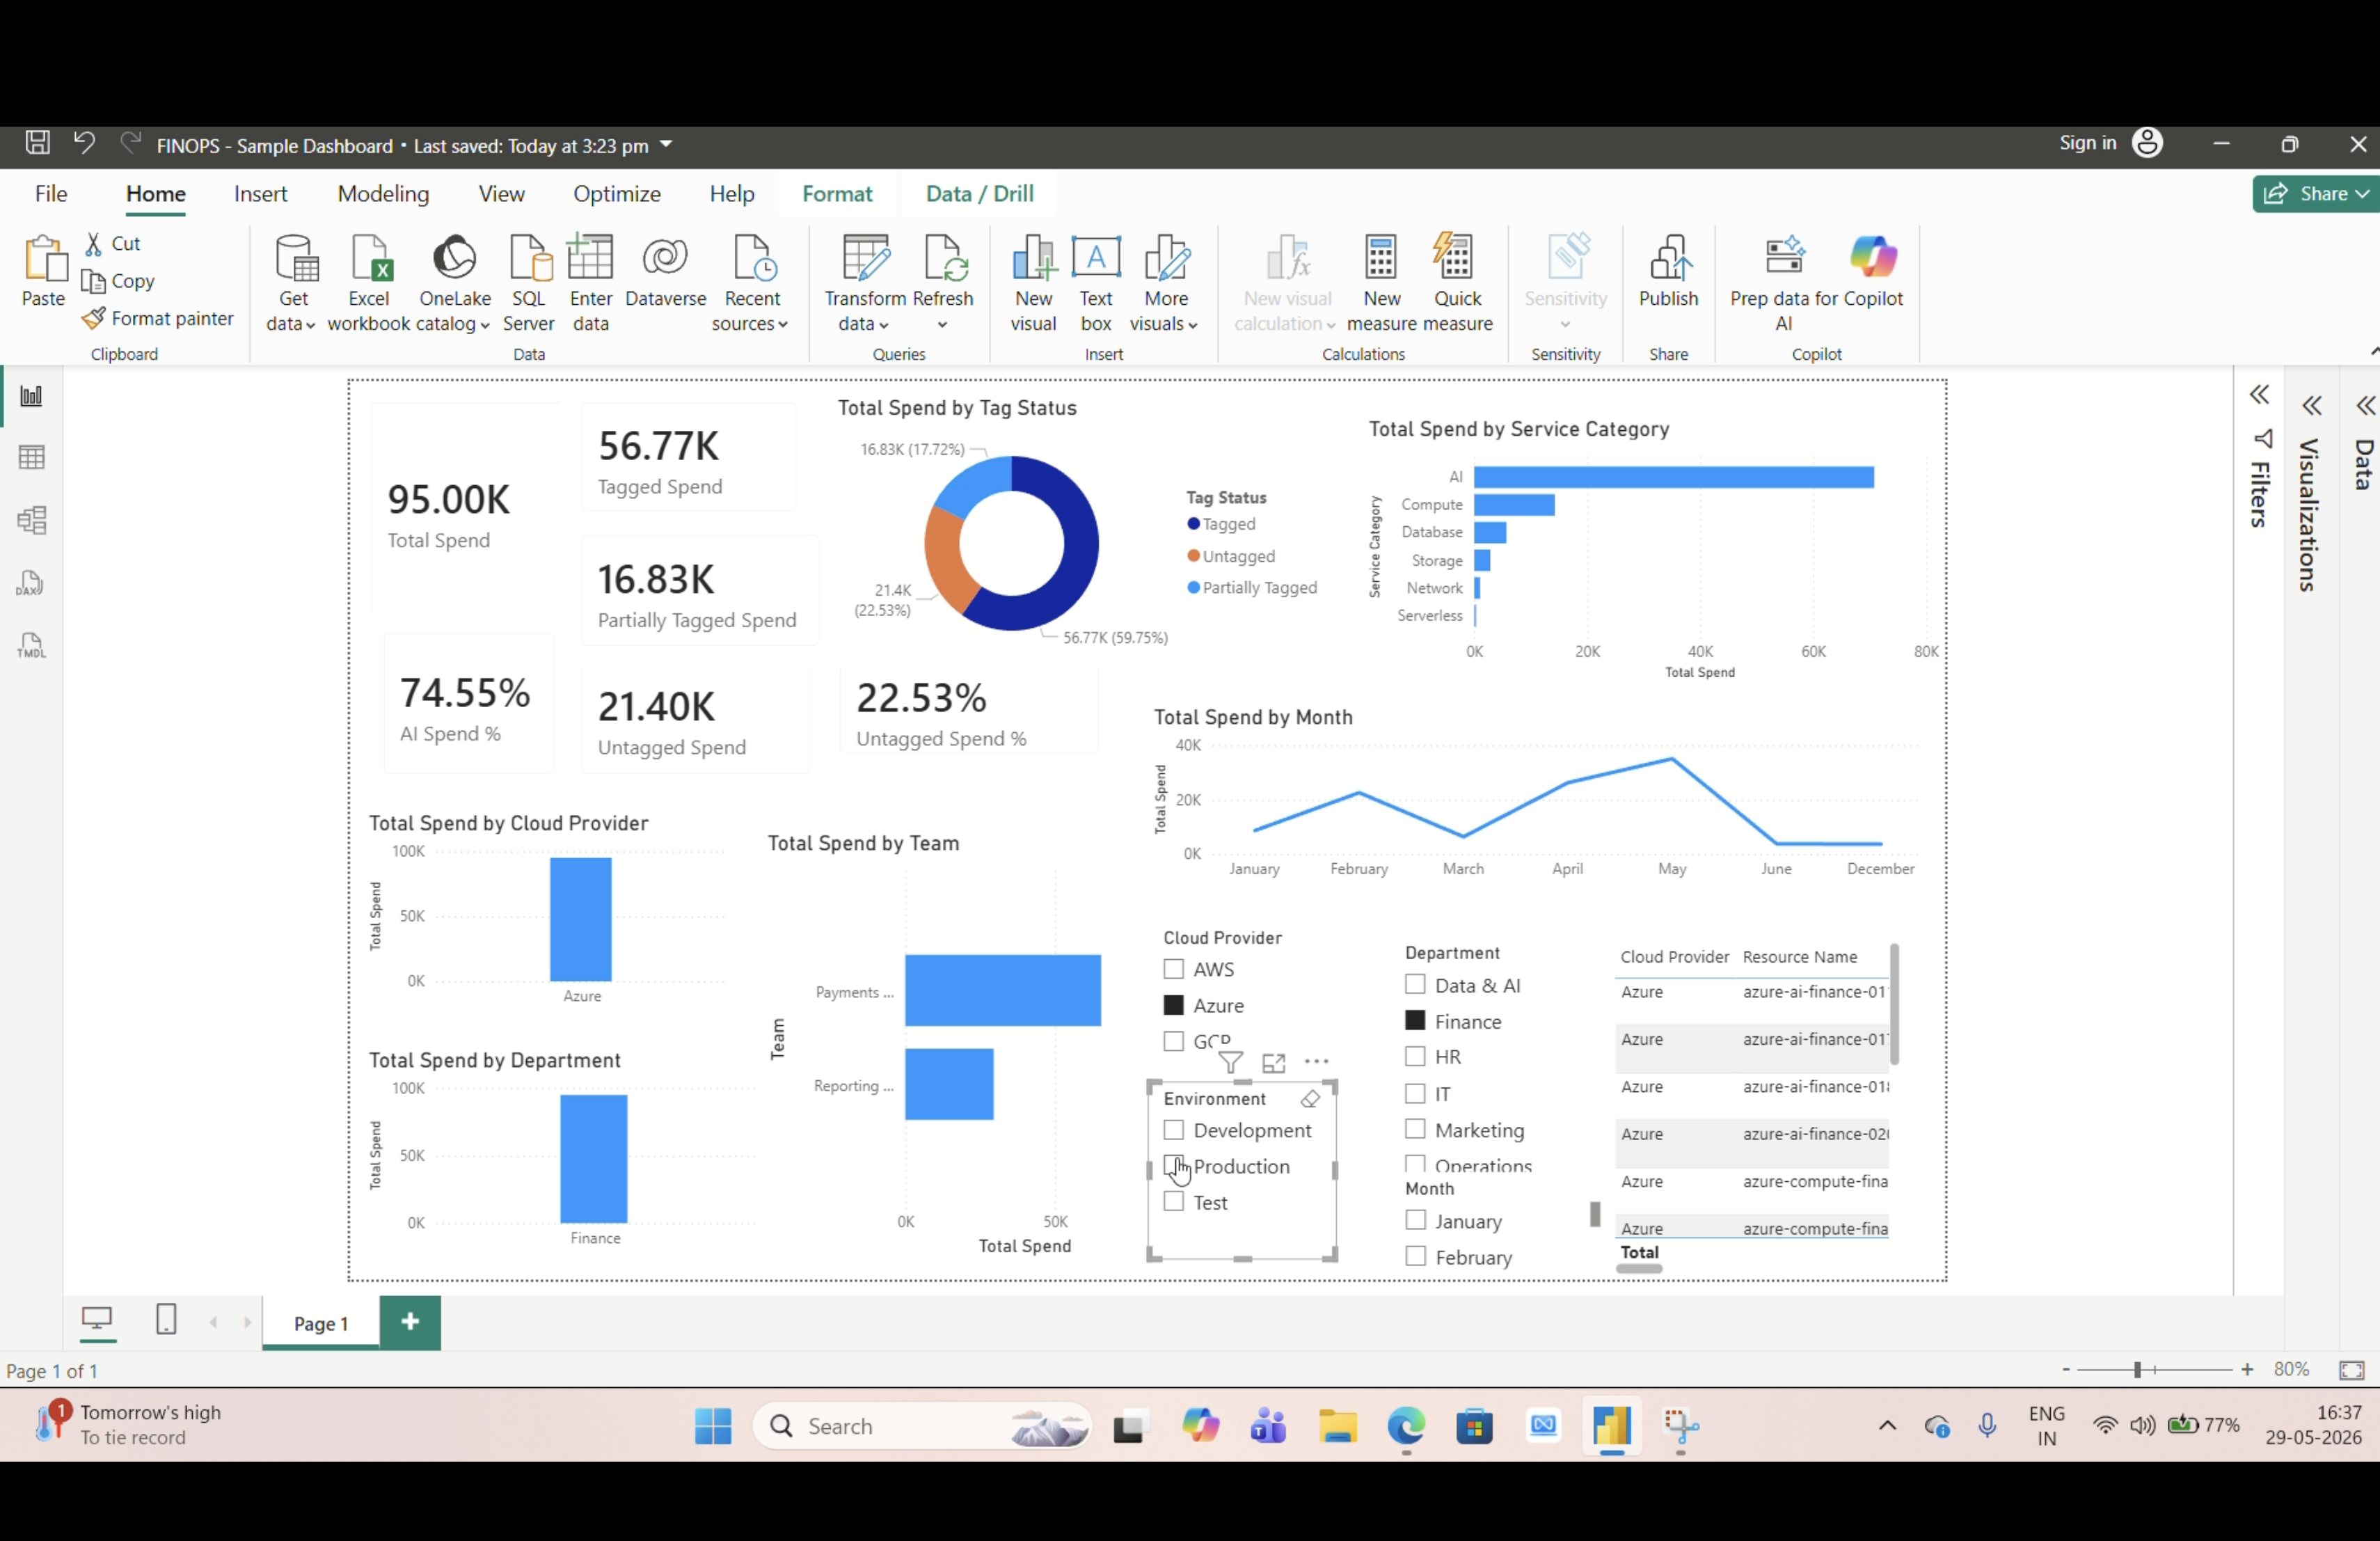

The dashboard page shown, as its layout file describes it:
{"tool":"powerbi","page":{"name":"Page 1","canvas":[1280,720],"ordinal":0},"visuals":[{"type":"cardVisual","fields":{"Data":["Cloud Cost.Total Spend"]},"box":[0,0,205,206.2],"z":0},{"type":"cardVisual","fields":{"Data":["Cloud Cost.Untagged Spend"]},"box":[168.8,206.2,217.5,126.2],"z":1},{"type":"cardVisual","fields":{"Data":["Cloud Cost.Tagged Spend"]},"box":[168.8,0,207.5,121.2],"z":2},{"type":"cardVisual","fields":{"Data":["Cloud Cost.Partially Tagged Spend"]},"box":[168.8,106.2,225,123.8],"z":3},{"type":"cardVisual","fields":{"Data":["Cloud Cost.AI Spend %"]},"box":[10,185,171.2,147.5],"z":4},{"type":"cardVisual","fields":{"Data":["Cloud Cost.Untagged Spend %"]},"box":[376.2,210,242.5,105],"z":6},{"type":"clusteredColumnChart","fields":{"Category":["Cloud Cost.Cloud Provider"],"Y":["Cloud Cost.Total Spend"]},"box":[10,343.8,298.8,167.5],"z":7},{"type":"clusteredColumnChart","fields":{"Category":["Cloud Cost.Department"],"Y":["Cloud Cost.Total Spend"]},"box":[10,533.8,320,171.2],"z":8},{"type":"donutChart","fields":{"Category":["Cloud Cost.Tag Status"],"Y":["Cloud Cost.Total Spend"]},"box":[386.2,11.2,405,218.8],"z":10},{"type":"clusteredBarChart","fields":{"Category":["Cloud Cost.Team"],"Y":["Cloud Cost.Total Spend"]},"box":[330.2,359.5,322.8,346.1],"z":11},{"type":"clusteredBarChart","fields":{"Category":["Cloud Cost.Service Category"],"Y":["Cloud Cost.Total Spend"]},"box":[812.5,27.5,467.5,217.5],"z":12},{"type":"lineChart","fields":{"Category":["Cloud Cost.Month.Variation.Date Hierarchy.Month"],"Y":["Cloud Cost.Total Spend"]},"box":[639.5,259.2,627.3,150.4],"z":13},{"type":"slicer","fields":{"Values":["Cloud Cost.Cloud Provider"]},"box":[639.5,432.9,143.1,119.8],"z":14},{"type":"slicer","fields":{"Values":["Cloud Cost.Environment"]},"box":[639.5,561.3,151.6,144.3],"z":15},{"type":"slicer","fields":{"Values":["Cloud Cost.Department"]},"box":[834,445.1,138.2,203],"z":16},{"type":"slicer","fields":{"Values":["Cloud Cost.Month.Variation.Date Hierarchy.Month"]},"box":[834.3,634,174.3,86.4],"z":17},{"type":"tableEx","fields":{"Values":["Cloud Cost.Cloud Provider","Cloud Cost.Resource Name","Cloud Cost.Department","Cloud Cost.Team","Cloud Cost.Service Category","Sum(Cloud Cost.Cost GBP)","Cloud Cost.Tag Status","Cloud Cost.Owner Tag","Cloud Cost.Cost Centre Tag","Cloud Cost.Optimisation Recommendation"]},"box":[1008.6,444.6,240.1,275.8],"z":18}]}

Visuals, with their boxes on the page's 1280x720 design canvas (x1, y1, x2, y2). These are canvas units, not pixel positions in the 2380x1541 screenshot, which may show the page scaled, cropped or inside an application window:
cardVisual - Cloud Cost.Total Spend: pyautogui.locateOnScreen(0, 0, 205, 206)
cardVisual - Cloud Cost.Untagged Spend: pyautogui.locateOnScreen(169, 206, 386, 332)
cardVisual - Cloud Cost.Tagged Spend: pyautogui.locateOnScreen(169, 0, 376, 121)
cardVisual - Cloud Cost.Partially Tagged Spend: pyautogui.locateOnScreen(169, 106, 394, 230)
cardVisual - Cloud Cost.AI Spend %: pyautogui.locateOnScreen(10, 185, 181, 332)
cardVisual - Cloud Cost.Untagged Spend %: pyautogui.locateOnScreen(376, 210, 619, 315)
clusteredColumnChart - Cloud Cost.Cloud Provider x Cloud Cost.Total Spend: pyautogui.locateOnScreen(10, 344, 309, 511)
clusteredColumnChart - Cloud Cost.Department x Cloud Cost.Total Spend: pyautogui.locateOnScreen(10, 534, 330, 705)
donutChart - Cloud Cost.Tag Status x Cloud Cost.Total Spend: pyautogui.locateOnScreen(386, 11, 791, 230)
clusteredBarChart - Cloud Cost.Team x Cloud Cost.Total Spend: pyautogui.locateOnScreen(330, 360, 653, 706)
clusteredBarChart - Cloud Cost.Service Category x Cloud Cost.Total Spend: pyautogui.locateOnScreen(812, 28, 1280, 245)
lineChart - Cloud Cost.Month.Variation.Date Hierarchy.Month x Cloud Cost.Total Spend: pyautogui.locateOnScreen(640, 259, 1267, 410)
slicer - Cloud Cost.Cloud Provider: pyautogui.locateOnScreen(640, 433, 783, 553)
slicer - Cloud Cost.Environment: pyautogui.locateOnScreen(640, 561, 791, 706)
slicer - Cloud Cost.Department: pyautogui.locateOnScreen(834, 445, 972, 648)
slicer - Cloud Cost.Month.Variation.Date Hierarchy.Month: pyautogui.locateOnScreen(834, 634, 1009, 720)
tableEx - Cloud Cost.Cloud Provider x Cloud Cost.Resource Name: pyautogui.locateOnScreen(1009, 445, 1249, 720)
